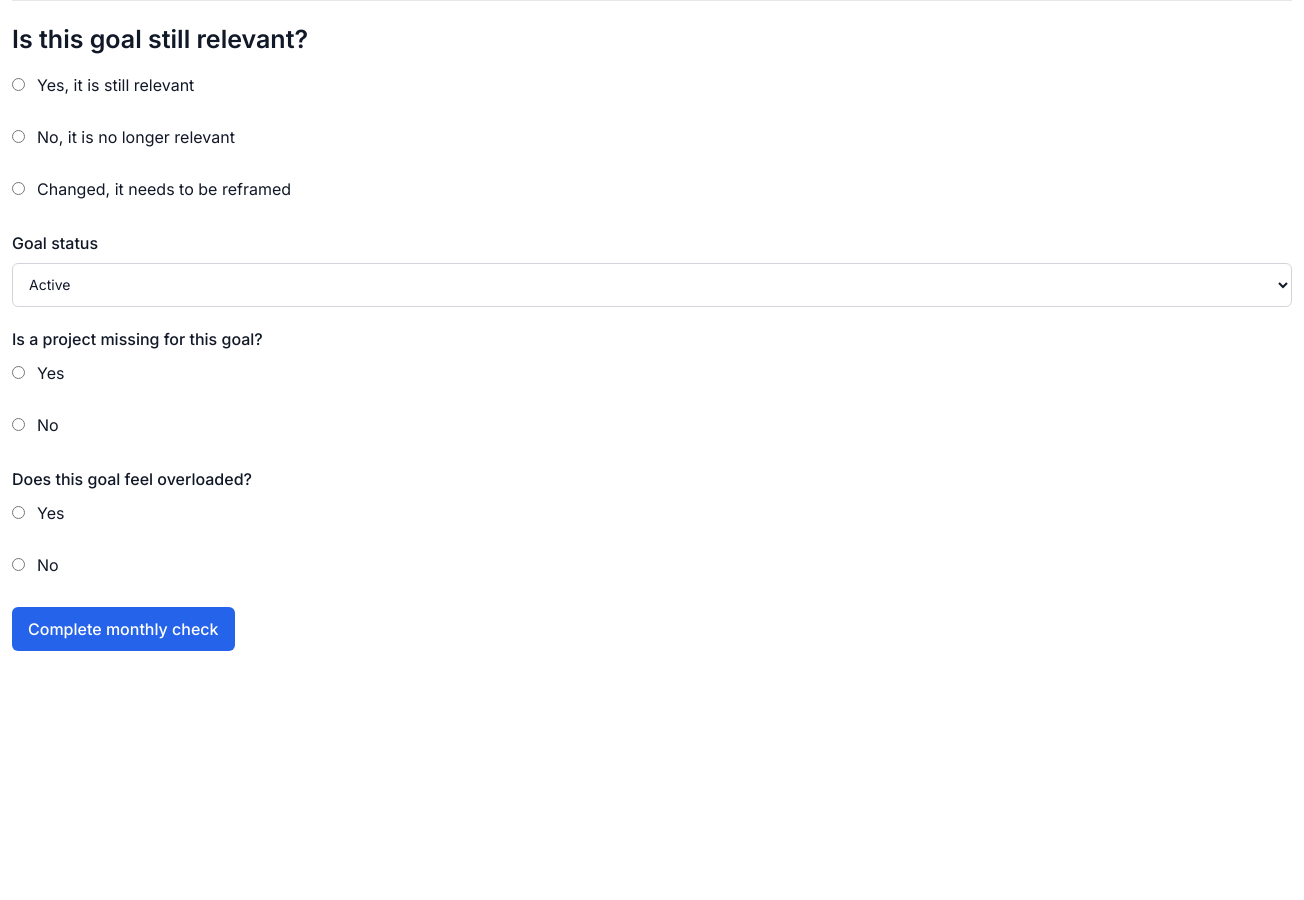
Test: MonthlyGoalCheckClient › updates status through the existing goal PATCH and preserves it on error
Select "Paused" in the dropdown labelled "Goal status" at (652, 284), box [12,262,1292,306]
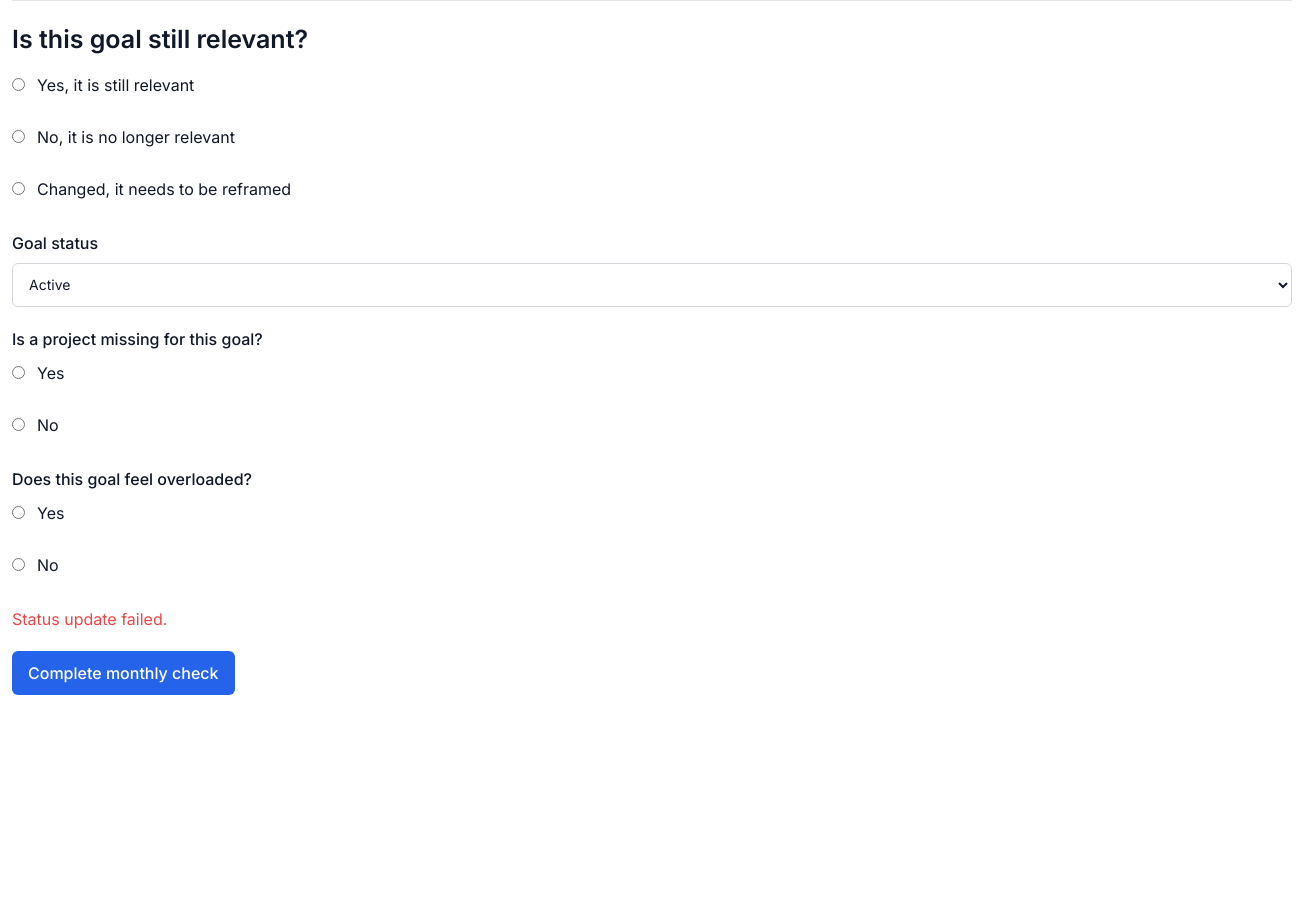
expect the message reads "Status update failed.": met, box [12,608,167,628]
